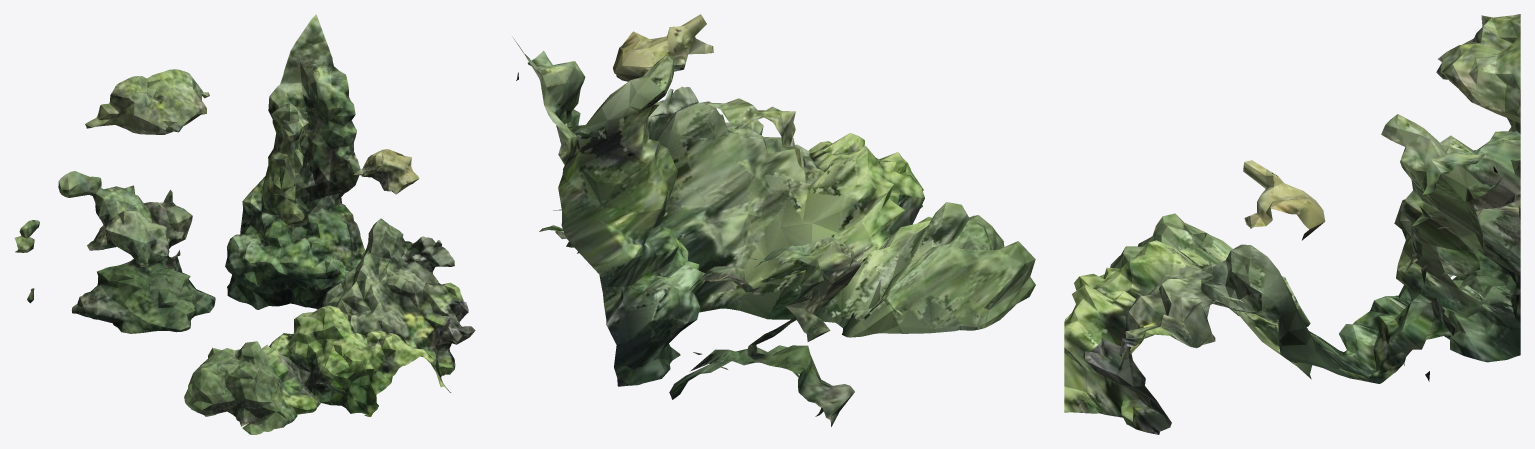
3 renders of one model, left to right at view 1: azimuth 30°, elevation 25°; view 2: azimuth 150°, elevation 25°; view 3: azimuth 270°, elevation 25°, orthographic. The views are drawn at different scales.
Size of the model in its own units: 26.11 by 20.35 by 26.11.
Materials: 4 (4 with a texture image).
